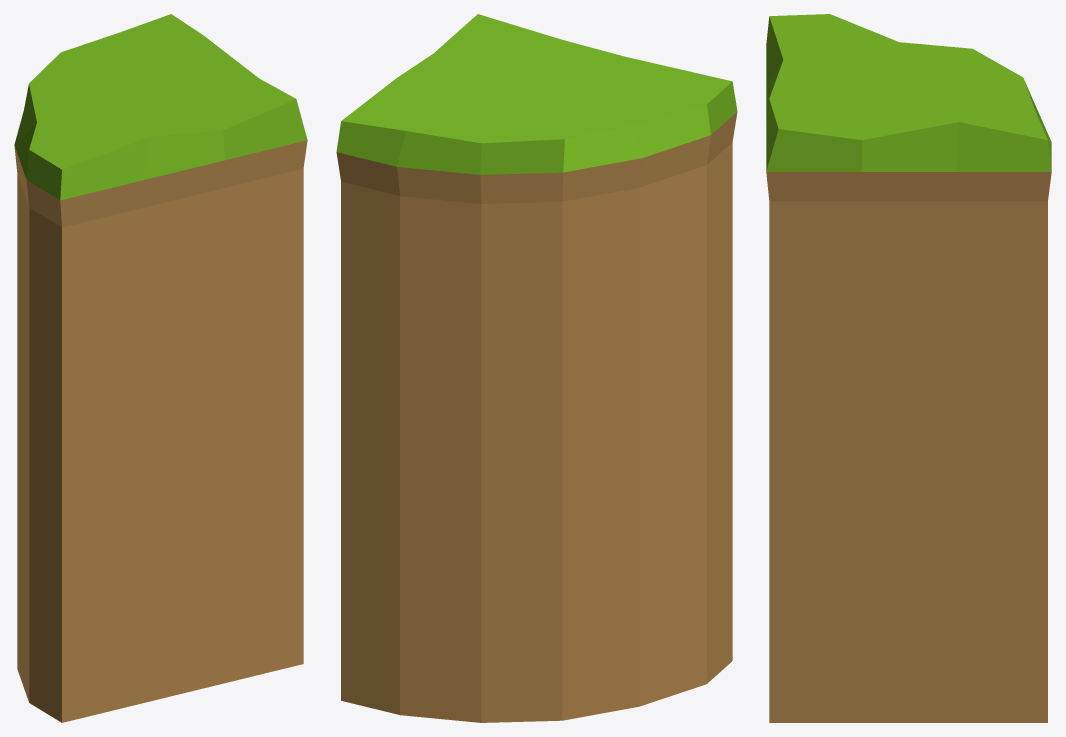
The model's file is Turn_right1.fbx.
3 views of the same model, side by side, from view 1: azimuth 30°, elevation 25°; view 2: azimuth 150°, elevation 25°; view 3: azimuth 270°, elevation 25° (orthographic). The views are drawn at different scales.
Parts seen in each view (by area): view 1: Turn_Right; view 2: Turn_Right; view 3: Turn_Right.
Boxes of the visible parts, x1,y1,x2,y2 form: Turn_Right: (14, 14, 307, 722); Turn_Right: (336, 14, 737, 722); Turn_Right: (766, 14, 1051, 722).
Bounding box in the file's own units: 400 × 858 × 373.
